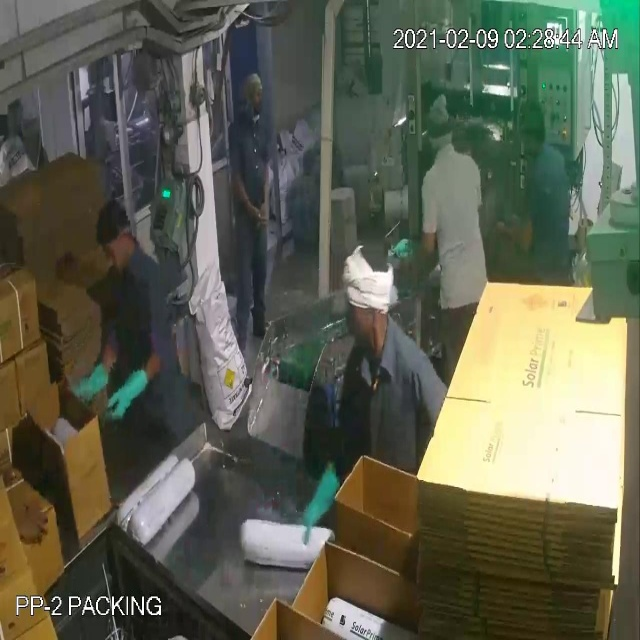Guantes: (292, 459, 346, 548), (97, 364, 154, 429), (55, 347, 114, 409)
Sin_guantes: (8, 482, 55, 565), (492, 206, 539, 260), (228, 164, 265, 226), (256, 157, 275, 220)
